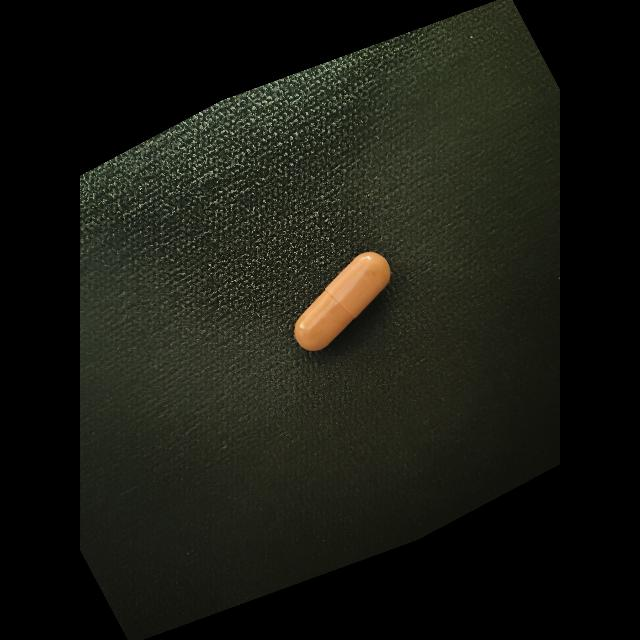Intact Capsule: (294, 252, 391, 351)
